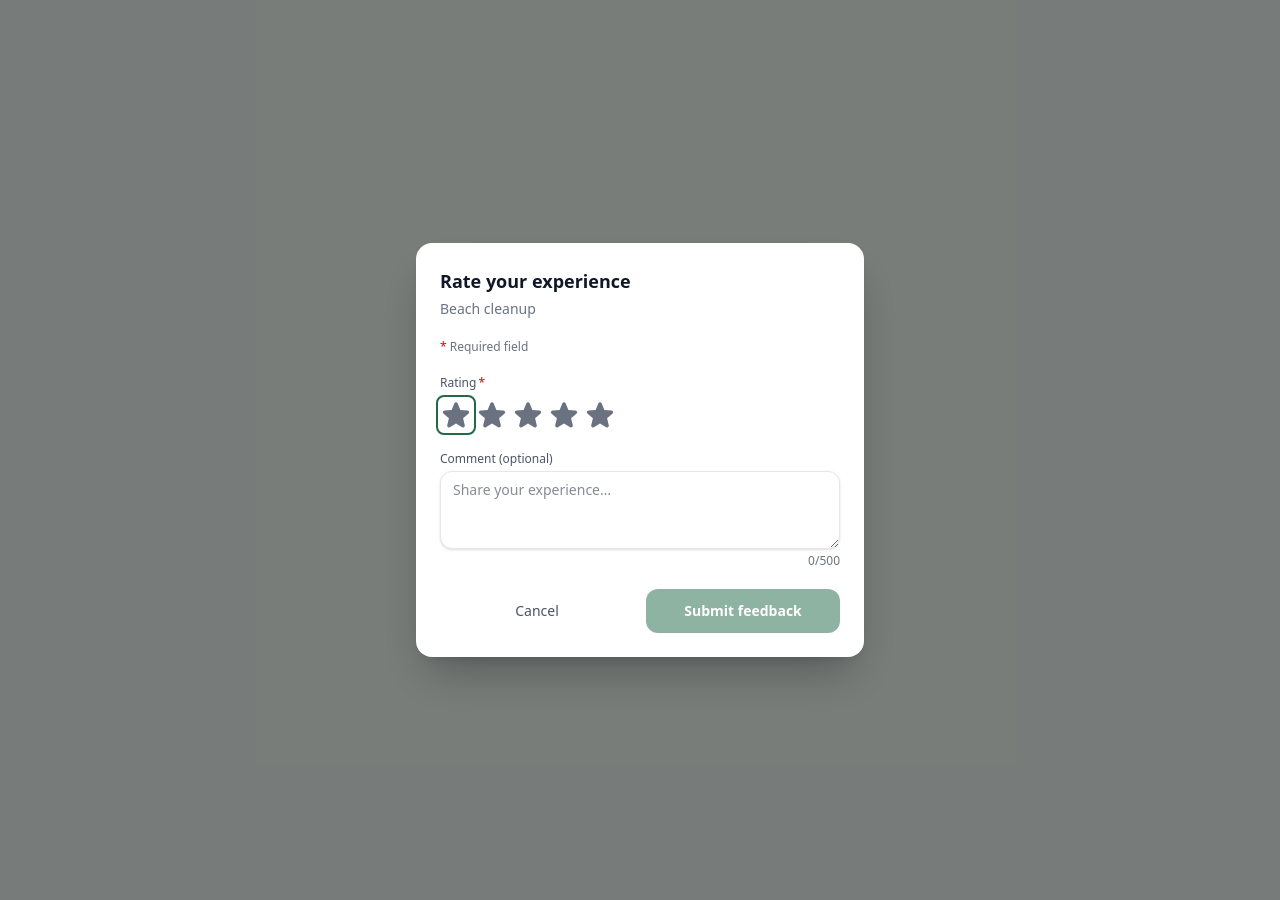
Test: SubmitFeedbackModal a11y › has no violations once the submission failed
Click the radio button named "5 stars". click: {"x": 600, "y": 415}
box: x1=584 y1=399 x2=616 y2=431
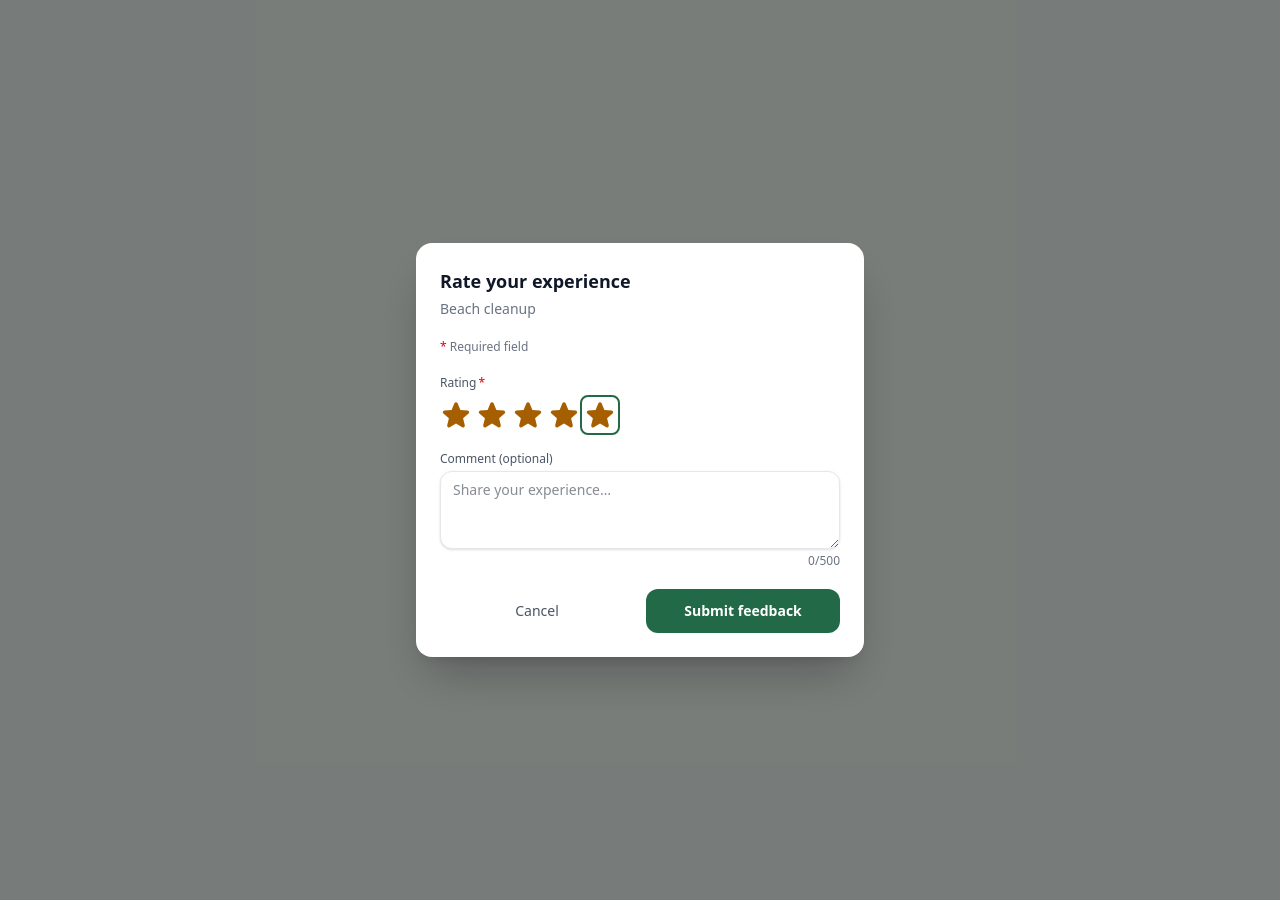
Click the button "Submit feedback". click: {"x": 743, "y": 611}
box: x1=646 y1=589 x2=840 y2=633
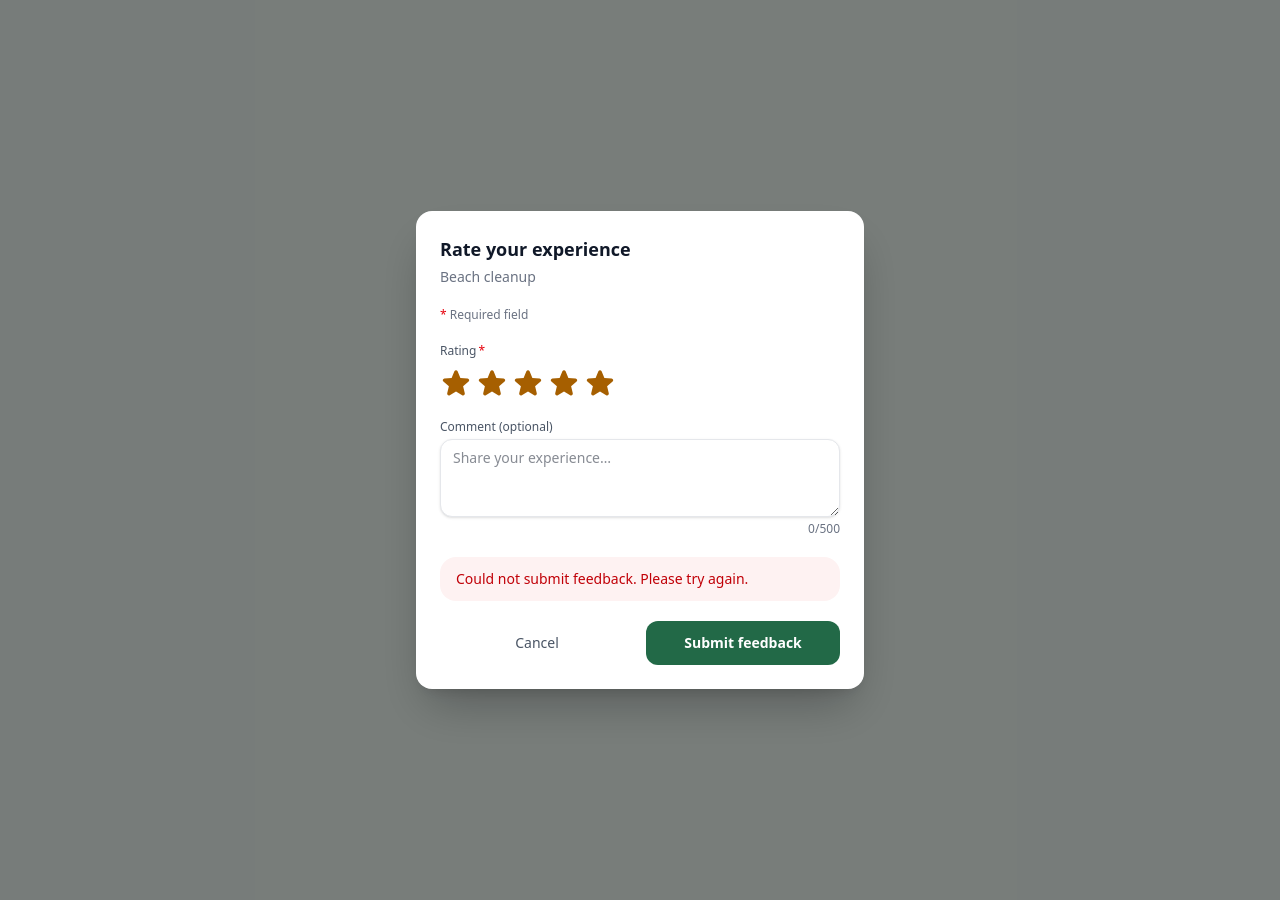
Expected: the message "Could not submit feedback. Please try again." is shown, x1=440 y1=557 x2=840 y2=601
